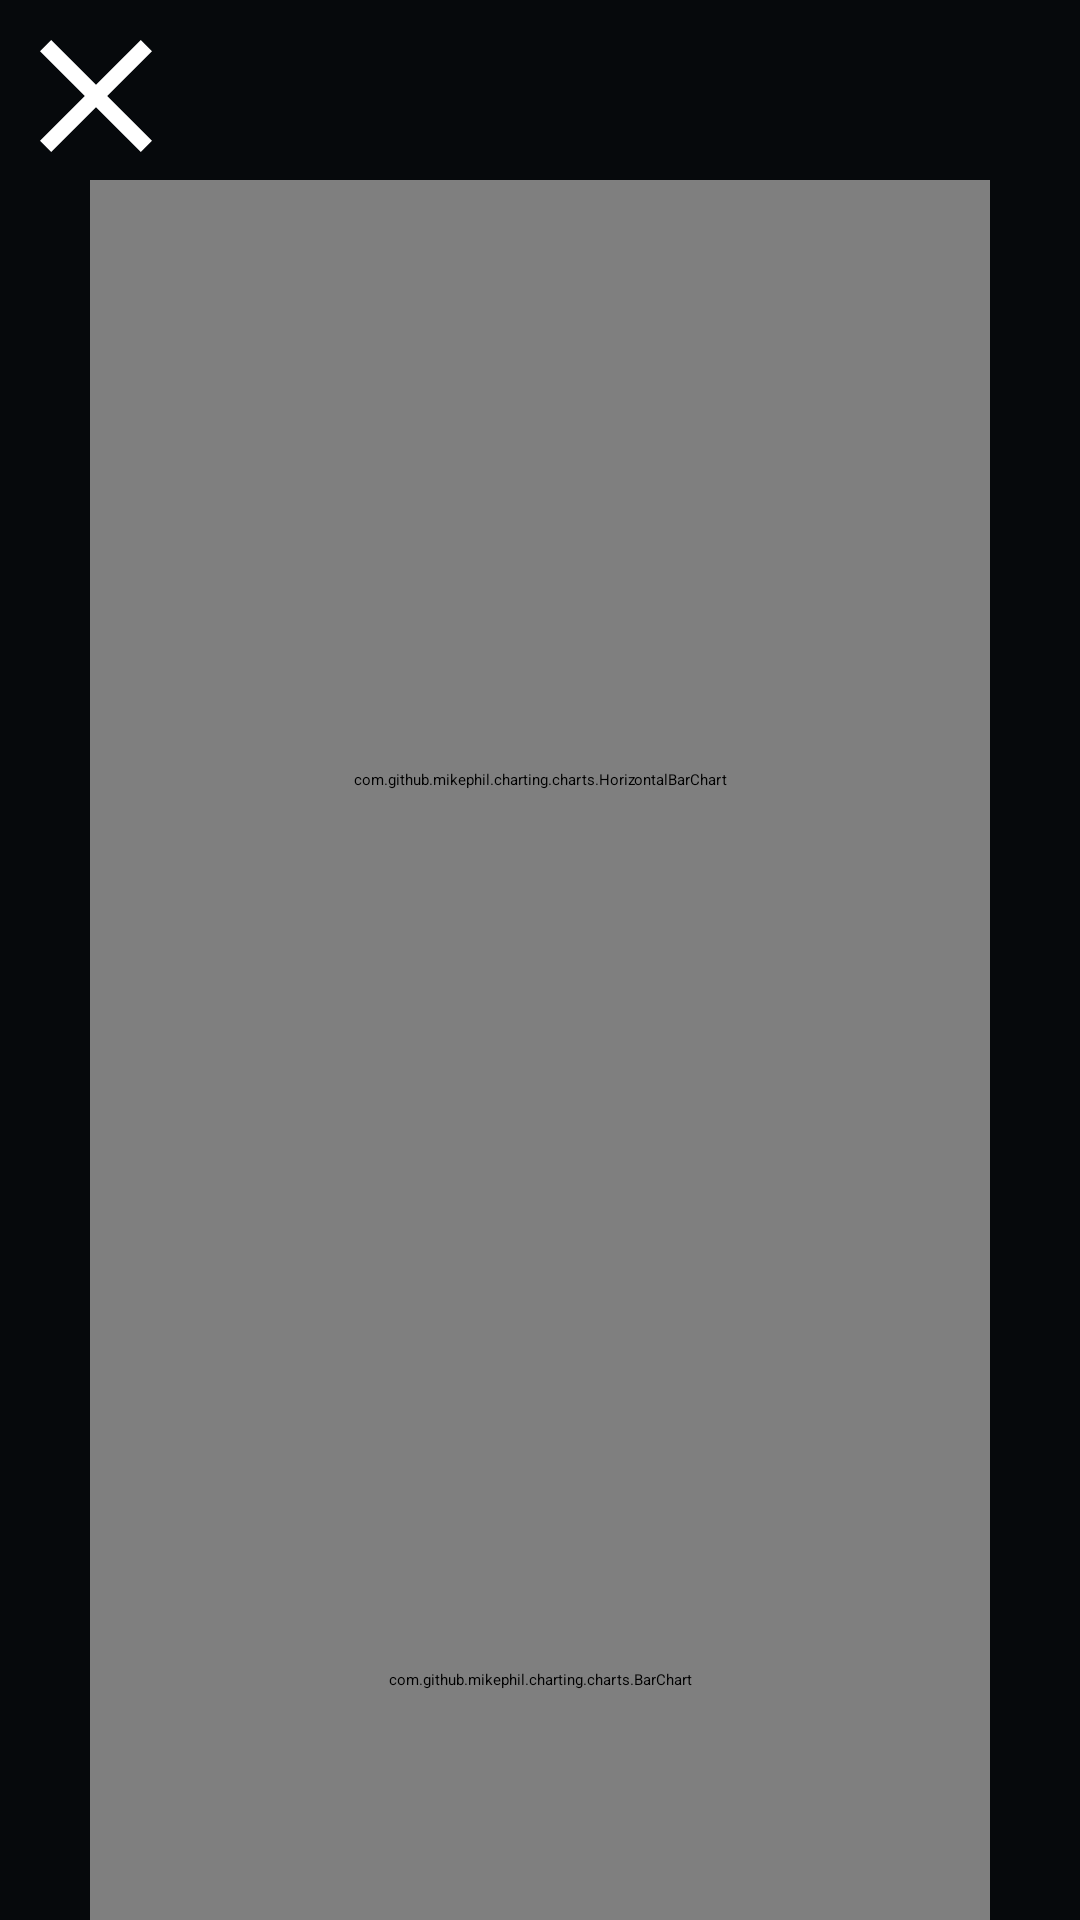

Screen size 1080px x 1920px. Icon name, then its center in pixels as [x,y]:
close: [96,96]
